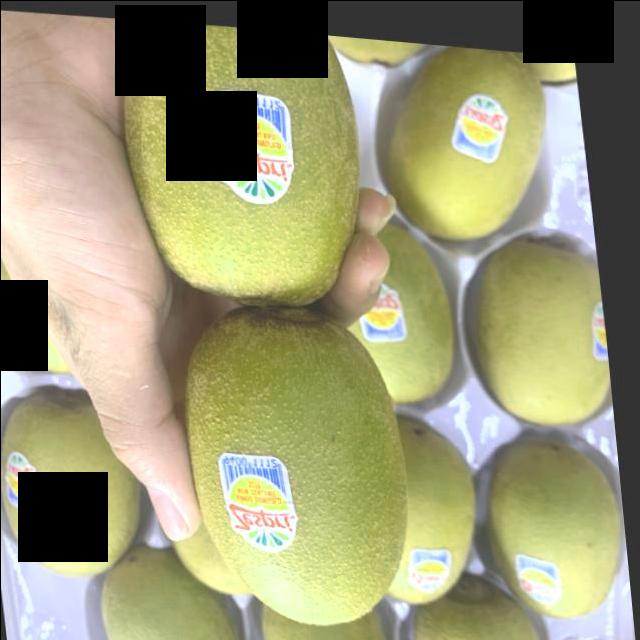kiwi: (173, 290, 425, 627), (129, 15, 386, 305), (376, 32, 574, 241), (462, 230, 621, 426), (1, 391, 149, 584), (487, 421, 634, 615), (364, 234, 466, 400), (80, 553, 243, 640), (407, 587, 550, 640), (268, 601, 398, 640)
